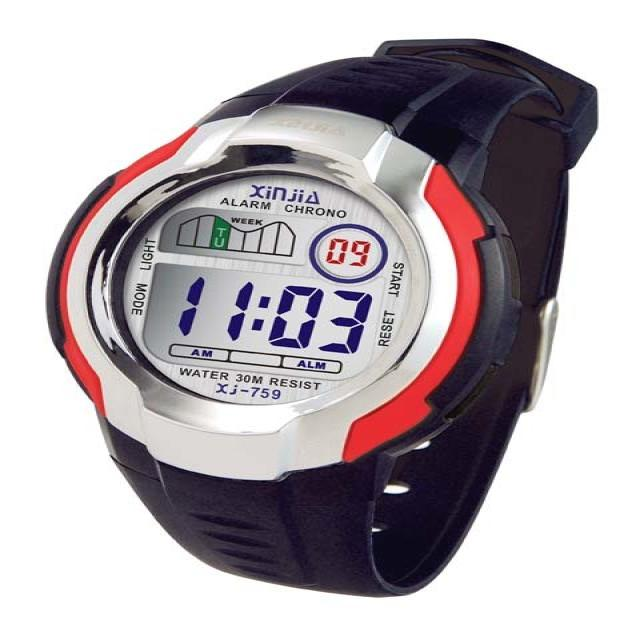watch: (117, 126, 494, 453)
